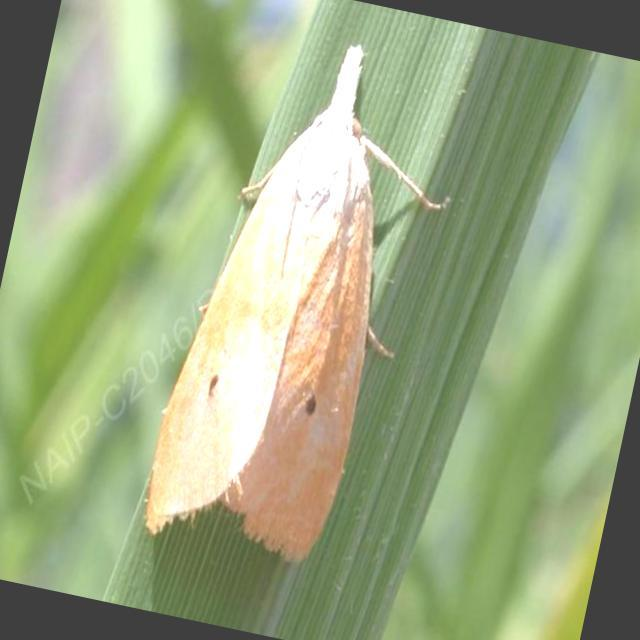stem borer: (145, 45, 444, 561)
